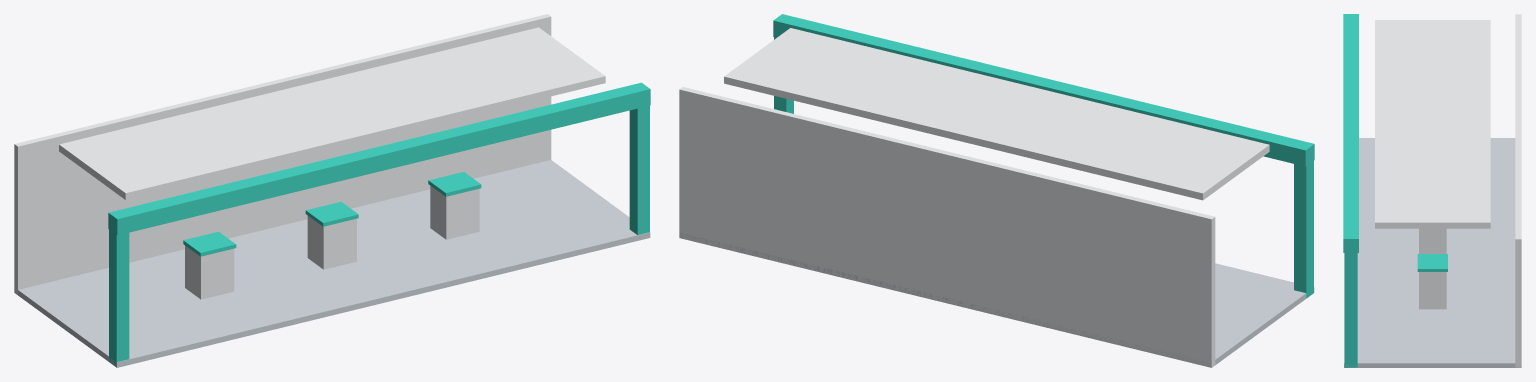
The picture shows the model from 3 angles, left to right: view 1: azimuth 30°, elevation 25°; view 2: azimuth 150°, elevation 25°; view 3: azimuth 270°, elevation 25°; orthographic projection. The views are drawn at different scales.
Visible parts, largest first — view 1: Exhibition Booth Concept; view 2: Exhibition Booth Concept; view 3: Exhibition Booth Concept.
Boxes of the visible parts, left/top/right/bottom form: Exhibition Booth Concept: left=14, top=14, right=650, bottom=367; Exhibition Booth Concept: left=679, top=14, right=1314, bottom=367; Exhibition Booth Concept: left=1343, top=14, right=1521, bottom=367.
Size of the model in its own units: 12 by 3.34 by 4.02.
